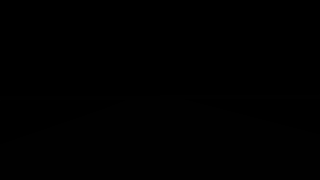turn_left: (183, 72, 191, 81)
